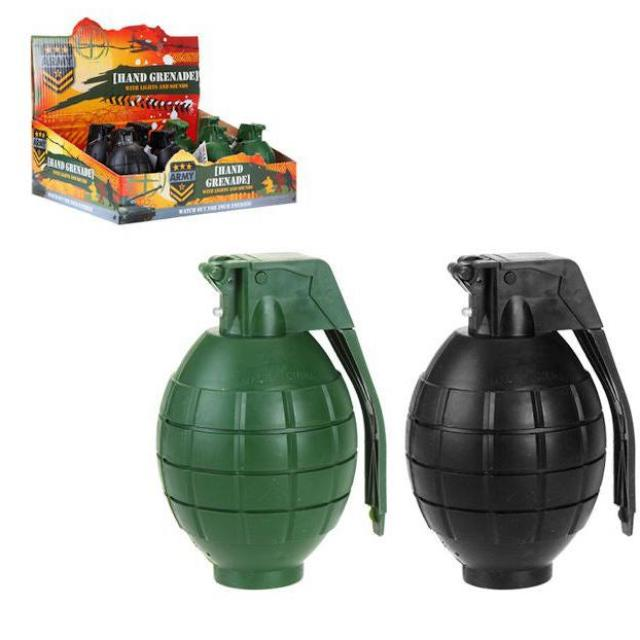grenade: (157, 257, 385, 591), (405, 257, 630, 591)
